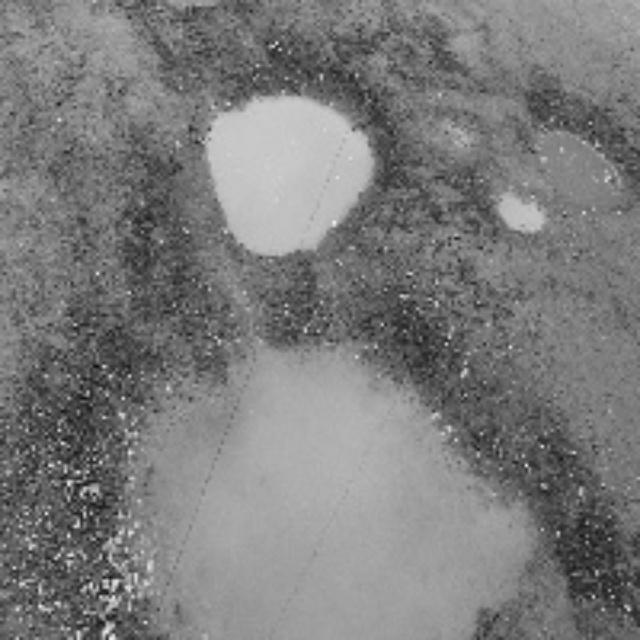Pothole: (168, 341, 465, 640), (199, 78, 371, 252), (520, 79, 640, 227)
